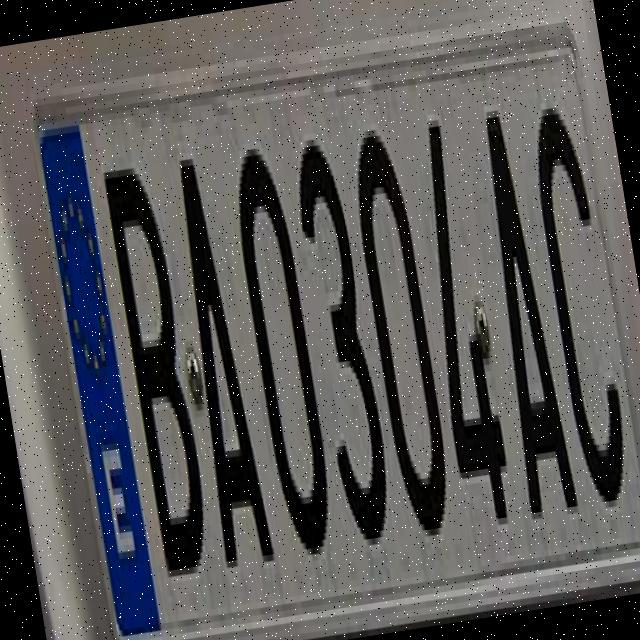EU: (23, 1, 640, 640)
Espagne: (32, 121, 162, 638)
